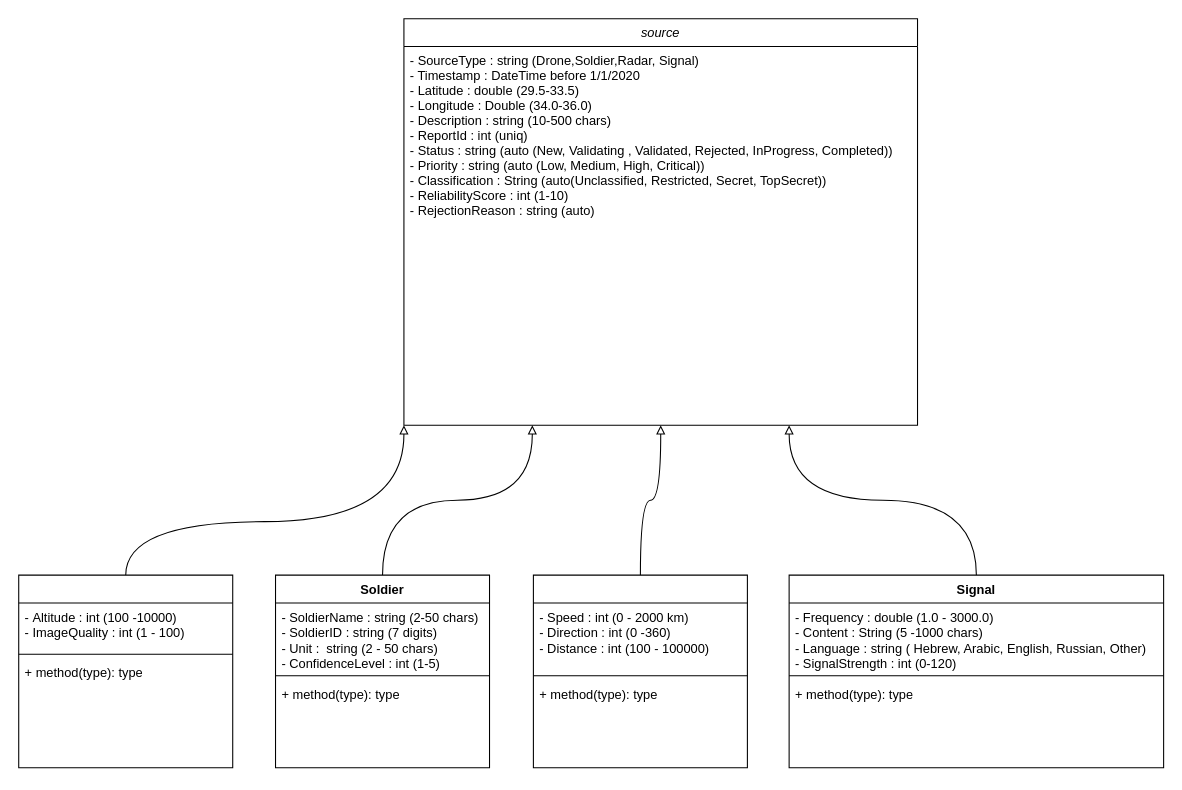
The diagram is 1182 pixels wide and 790 high, and some of its shapes have lost their labels. Here are the shapes that lost their labels. From the top down, the box of each, then its label:
(18, 574, 233, 768): Drone
(532, 574, 747, 768): Radar
